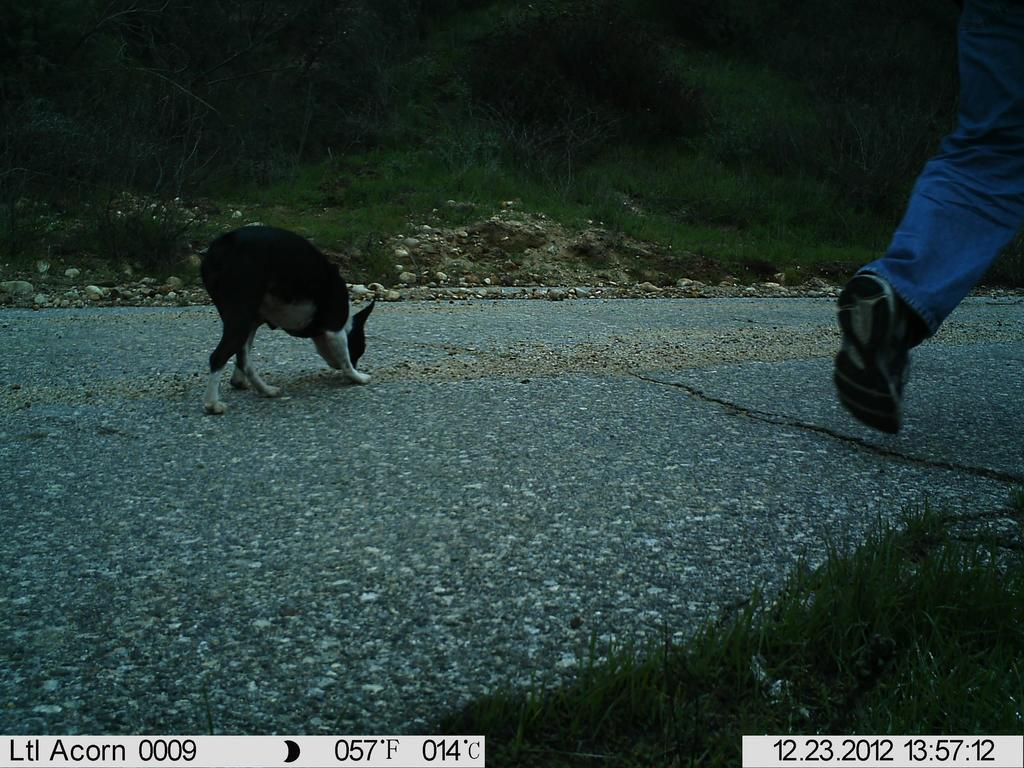dog: (172, 218, 396, 423)
